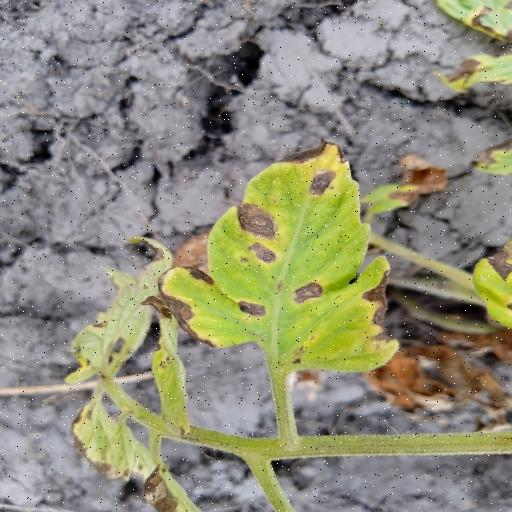Tomato_Brown_Spots: (152, 137, 409, 380)
